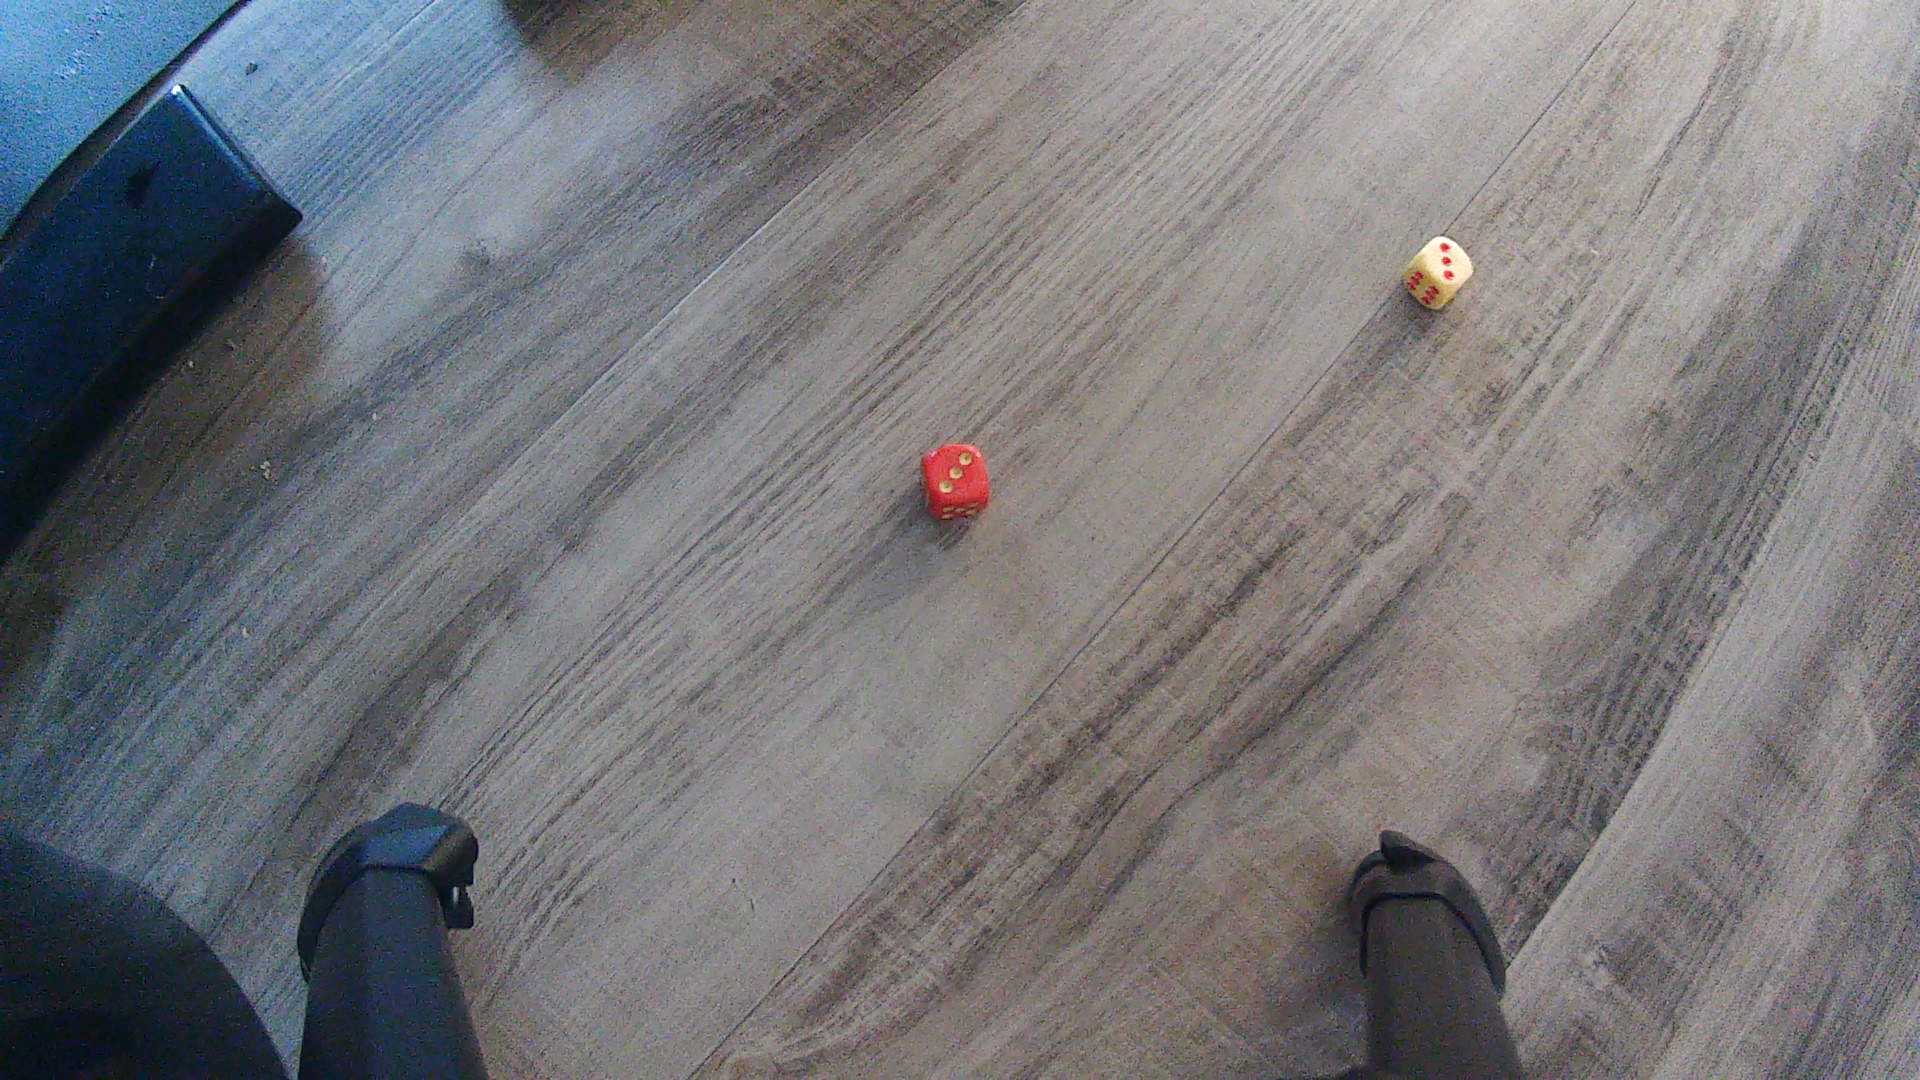die: (1400, 235, 1476, 313), (920, 442, 992, 521)
